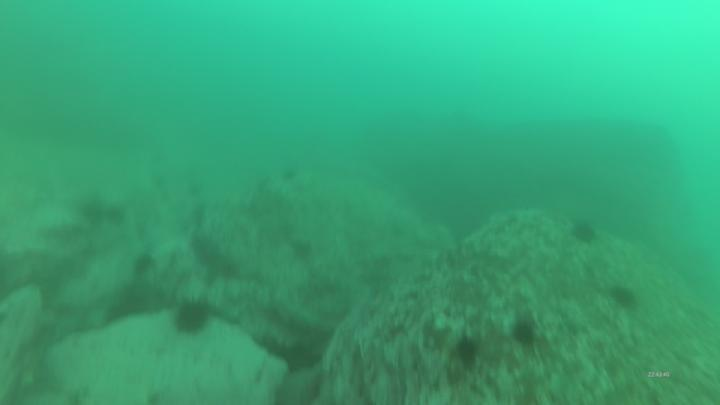echinus: (167, 295, 216, 338), (607, 281, 640, 315), (569, 216, 602, 248), (455, 334, 482, 372), (509, 317, 540, 350), (210, 255, 243, 282), (189, 234, 217, 265), (104, 204, 130, 228), (134, 251, 156, 273), (292, 237, 316, 257), (277, 168, 299, 183)
